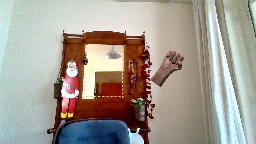Pugno: (161, 48, 184, 72)
